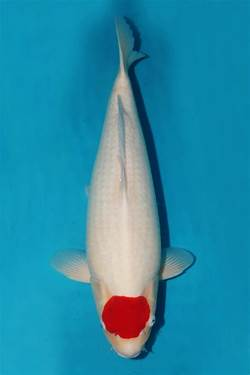sun: (47, 14, 197, 360)
